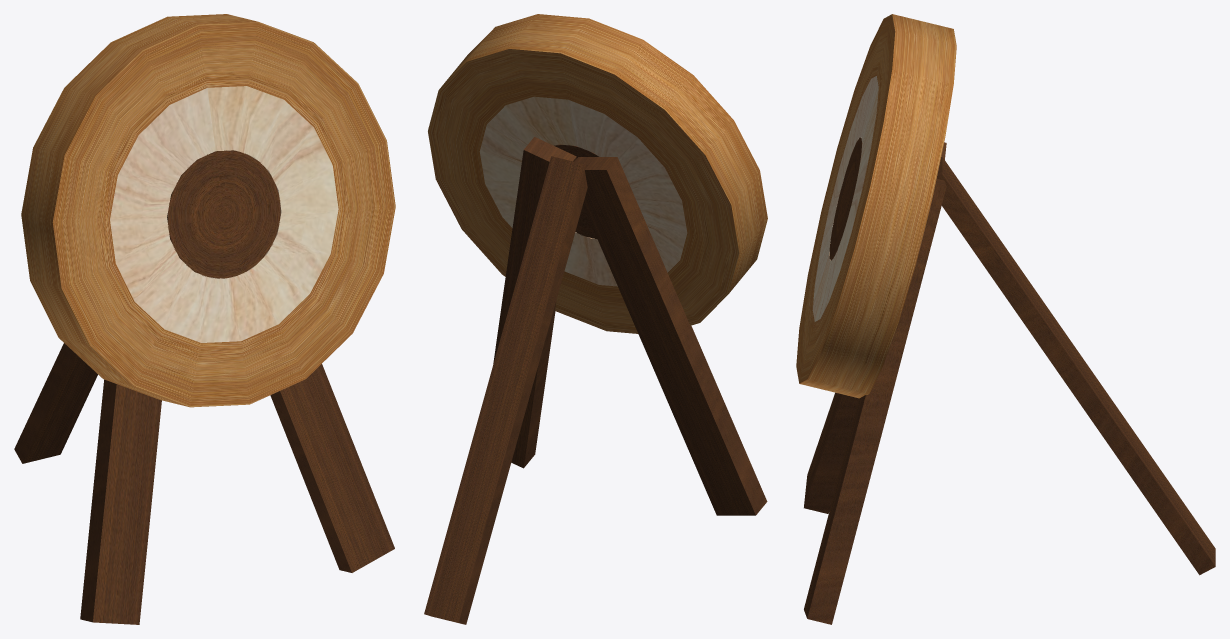
File: Alvo.FBX
3 views of the same model, side by side, from view 1: azimuth 30°, elevation 25°; view 2: azimuth 150°, elevation 25°; view 3: azimuth 270°, elevation 25° (orthographic). The views are drawn at different scales.
Parts seen in each view (by area): view 1: TargetCenterLevel3, TargetCenterLevel2, Tripe, TargetCenterLevel1; view 2: TargetCenterLevel3, Tripe, TargetCenterLevel2, TargetCenterLevel1; view 3: TargetCenterLevel3, Tripe, TargetCenterLevel2, TargetCenterLevel1.
Boxes of the visible parts, x1,y1,x2,y2 form: TargetCenterLevel3: (21,14,395,407); TargetCenterLevel2: (110,86,338,342); Tripe: (14,343,394,624); TargetCenterLevel1: (167,150,280,278); TargetCenterLevel3: (428,14,767,333); Tripe: (424,137,767,624); TargetCenterLevel2: (479,96,687,286); TargetCenterLevel1: (554,144,598,238); TargetCenterLevel3: (796,14,956,398); Tripe: (804,142,1215,624); TargetCenterLevel2: (812,76,878,321); TargetCenterLevel1: (829,137,862,260).
Bounding box in the file's own units: 0.000591 × 0.000927 × 0.000658.
3 materials, 3 textured.
